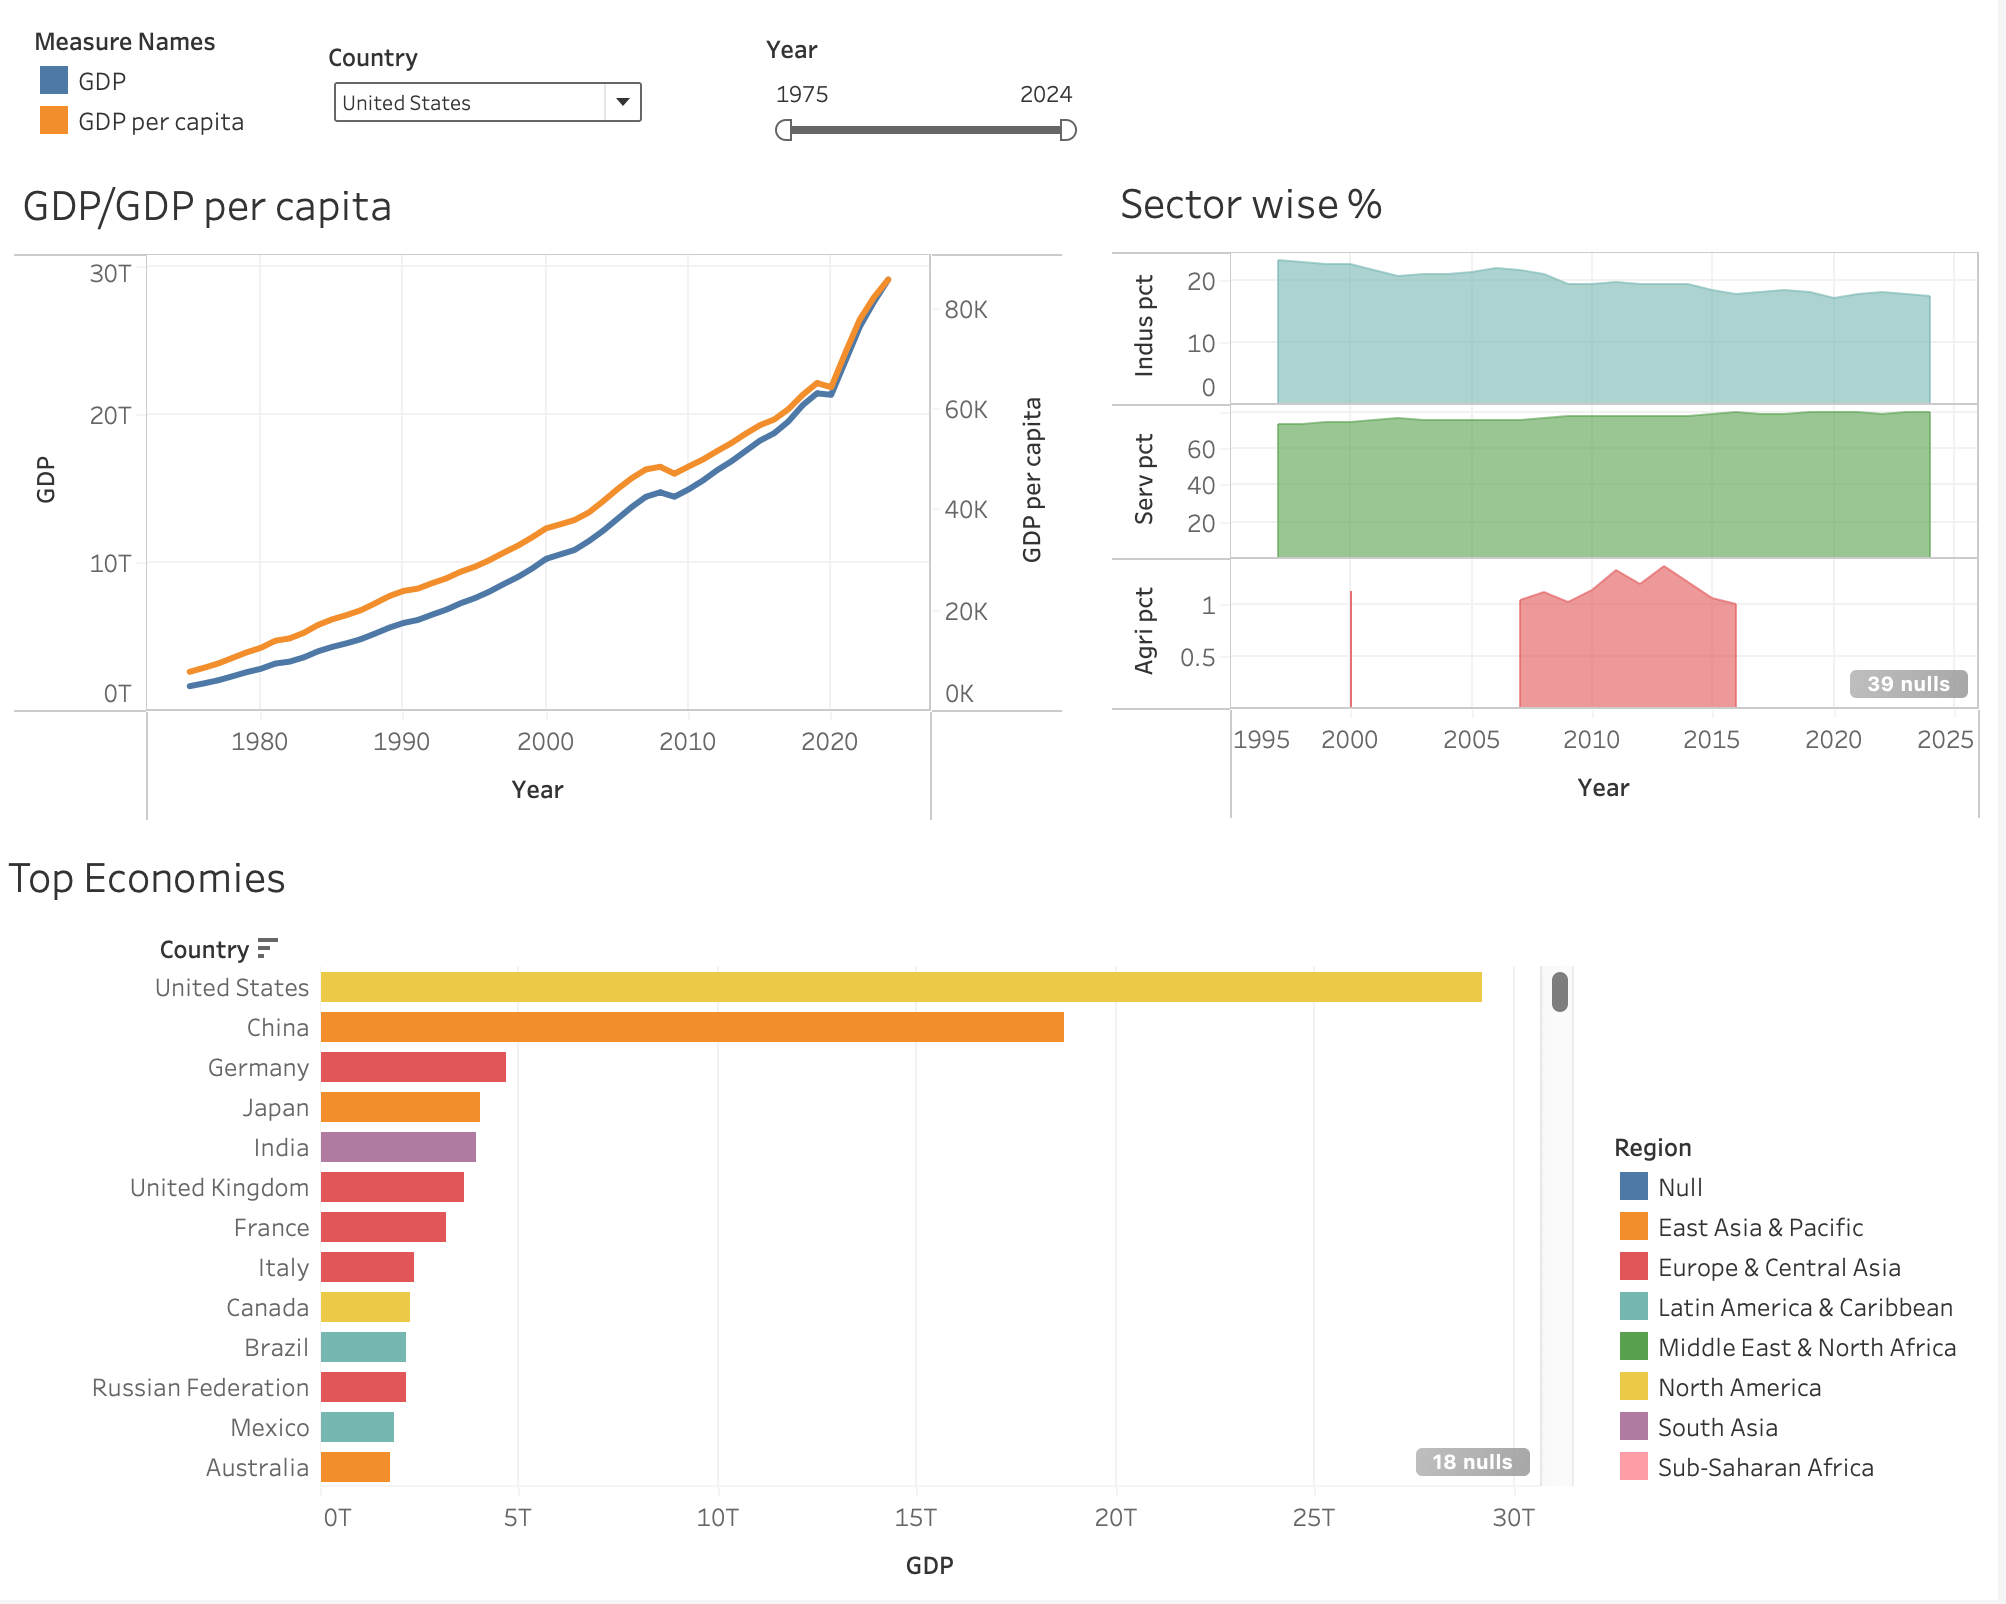

Layout of this report page (visuals, bound fields, positions):
{"tool":"tableau","page":{"name":"Dashboard 1","canvas":[1000,800],"ordinal":0},"visuals":[{"type":"legend","title":"GDP/GDP per capita","param":"[federated.14092091ptb7ll14yyaaz081gjgp].[:Measure Names]","box":[18,12,140,58]},{"type":"filter","title":"GDP/GDP per capita","param":"[federated.14092091ptb7ll14yyaaz081gjgp].[none:Year:qk]","box":[384,16,160,61]},{"type":"filter","title":"GDP/GDP per capita","param":"[federated.14092091ptb7ll14yyaaz081gjgp].[none:Country:nk]","box":[165,20,160,44]},{"type":"worksheet","title":"Sector wise %","mark":"Area","rows":["Indus_pct","Serv_pct","Agri_pct"],"cols":["Year"],"box":[557,83,434,328]},{"type":"worksheet","title":"GDP/GDP per capita","mark":"Automatic","rows":["GDP","GDP_per_capita"],"cols":["Year"],"box":[8,84,525,327]},{"type":"worksheet","title":"Top Economies","mark":"Automatic","rows":["Country"],"cols":["GDP"],"box":[1,420,787,378]},{"type":"legend","title":"Top Economies","param":"[federated.14092091ptb7ll14yyaaz081gjgp].[none:Region:nk]","box":[808,565,186,193]}]}

Visuals, with their boxes in screenshot pixels (x1, y1, x2, y2), scaled from the page's 1000x800 canvas onto the 2006x1604 screenshot:
"GDP/GDP per capita" legend: {"x1": 36, "y1": 24, "x2": 317, "y2": 140}
"GDP/GDP per capita" filter: {"x1": 770, "y1": 32, "x2": 1091, "y2": 154}
"GDP/GDP per capita" filter: {"x1": 331, "y1": 40, "x2": 652, "y2": 128}
"Sector wise %" worksheet (Area marks): {"x1": 1117, "y1": 166, "x2": 1988, "y2": 824}
"GDP/GDP per capita" worksheet: {"x1": 16, "y1": 168, "x2": 1069, "y2": 824}
"Top Economies" worksheet: {"x1": 2, "y1": 842, "x2": 1581, "y2": 1600}
"Top Economies" legend: {"x1": 1621, "y1": 1133, "x2": 1994, "y2": 1520}
